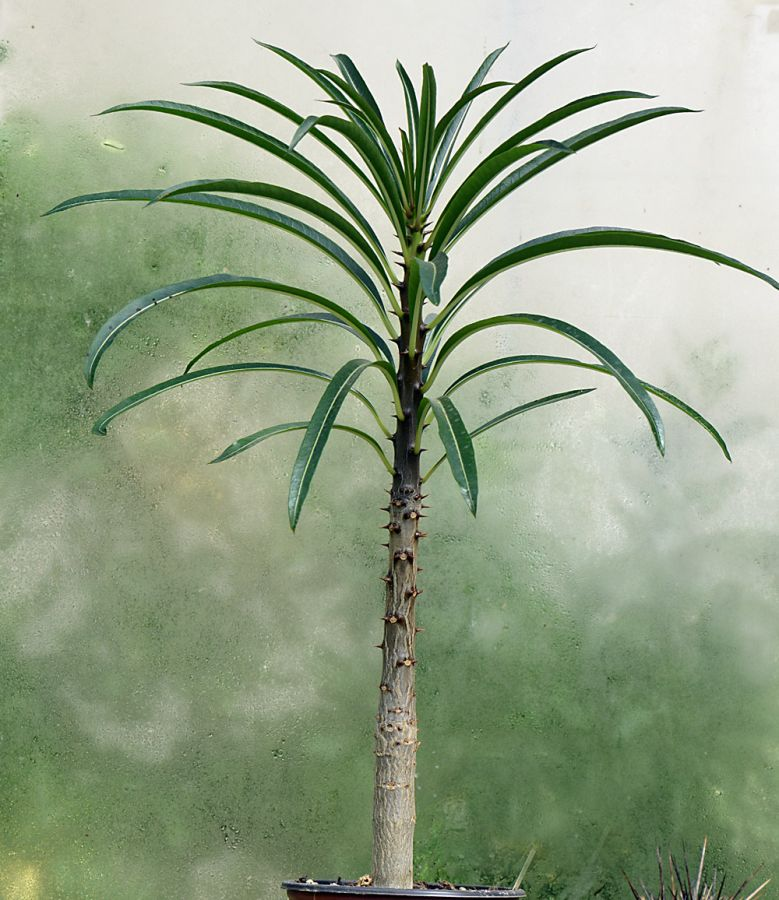Pachypodium meridionale: (224, 57, 574, 883)
